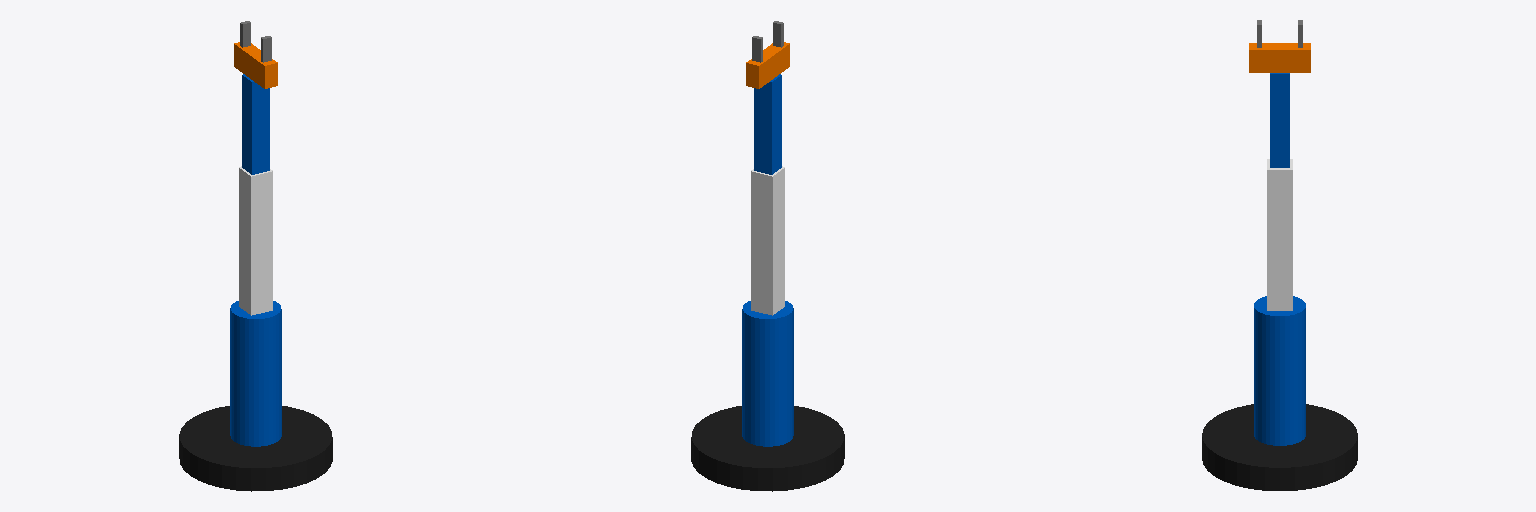
URDF robot description (robot_4axes_ik):
<?xml version="1.0"?>
<robot name="robot_4axes_ik">

  <!-- Matériaux pour l'esthétique du robot dans RViz -->
  <material name="dark_grey"><color rgba="0.15 0.15 0.15 1"/></material>
  <material name="blue"><color rgba="0.0 0.4 0.8 1"/></material>
  <material name="white"><color rgba="0.95 0.95 0.95 1"/></material>
  <material name="orange"><color rgba="1.0 0.5 0.0 1"/></material>
  <material name="grey"><color rgba="0.5 0.5 0.5 1"/></material>

  <!-- ================= BASE LINK ================= -->
  <link name="base_link">
    <visual>
      <origin xyz="0 0 0.025" rpy="0 0 0"/>
      <geometry>
        <cylinder length="0.05" radius="0.15"/>
      </geometry>
      <material name="dark_grey"/>
    </visual>
  </link>

  <!-- Joint 1 : Rotation de la base autour de l'axe vertical Z (Yaw) -->
  <joint name="joint1" type="revolute">
    <parent link="base_link"/>
    <child link="link1"/>
    <origin xyz="0 0 0.05" rpy="0 0 0"/>
    <axis xyz="0 0 1"/>
    <limit lower="-3.1416" upper="3.1416" effort="100.0" velocity="1.5"/>
  </joint>

  <!-- ================= LINK 1 ================= -->
  <link name="link1">
    <visual>
      <origin xyz="0 0 0.1375" rpy="0 0 0"/>
      <geometry>
        <cylinder length="0.275" radius="0.05"/>
      </geometry>
      <material name="blue"/>
    </visual>
  </link>

  <!-- Joint 2 : Épaule (Rotation autour de Y - Pitch) -->
  <joint name="joint2" type="revolute">
    <parent link="link1"/>
    <child link="link2"/>
    <origin xyz="0 0 0.275" rpy="0 0 0"/>
    <axis xyz="0 1 0"/>
    <limit lower="-1.5708" upper="1.5708" effort="100.0" velocity="1.5"/>
  </joint>

  <!-- ================= LINK 2 ================= -->
  <link name="link2">
    <visual>
      <origin xyz="0 0 0.15" rpy="0 0 0"/>
      <geometry>
        <box size="0.05 0.05 0.30"/>
      </geometry>
      <material name="white"/>
    </visual>
  </link>

  <!-- Joint 3 : Coude (Rotation autour de Y - Pitch) -->
  <joint name="joint3" type="revolute">
    <parent link="link2"/>
    <child link="link3"/>
    <origin xyz="0 0 0.30" rpy="0 0 0"/>
    <axis xyz="0 1 0"/>
    <limit lower="-2.0" upper="2.0" effort="100.0" velocity="1.5"/>
  </joint>

  <!-- ================= LINK 3 ================= -->
  <link name="link3">
    <visual>
      <origin xyz="0 0 0.10" rpy="0 0 0"/>
      <geometry>
        <box size="0.04 0.04 0.20"/>
      </geometry>
      <material name="blue"/>
    </visual>
  </link>

  <!-- Joint 4 : Poignet (Rotation autour de Y - Pitch) -->
  <joint name="joint4" type="revolute">
    <parent link="link3"/>
    <child link="gripper_base"/>
    <origin xyz="0 0 0.20" rpy="0 0 0"/>
    <axis xyz="0 1 0"/>
    <limit lower="-1.5708" upper="1.5708" effort="100.0" velocity="1.5"/>
  </joint>

  <!-- ================= GRIPPER BASE ================= -->
  <link name="gripper_base">
    <visual>
      <origin xyz="0 0 0.025" rpy="0 0 0"/>
      <geometry>
        <box size="0.03 0.12 0.05"/>
      </geometry>
      <material name="orange"/>
    </visual>
  </link>

  <!-- Joint Doigt 1 : Prismatique gauche (Axe Y) -->
  <joint name="gripper_finger1_joint" type="prismatic">
    <parent link="gripper_base"/>
    <child link="gripper_finger1"/>
    <origin xyz="0 0.04 0.05" rpy="0 0 0"/>
    <axis xyz="0 1 0"/>
    <limit lower="0.0" upper="0.04" effort="50.0" velocity="0.5"/>
  </joint>

  <link name="gripper_finger1">
    <visual>
      <origin xyz="0 0 0.025" rpy="0 0 0"/>
      <geometry>
        <box size="0.02 0.01 0.05"/>
      </geometry>
      <material name="grey"/>
    </visual>
  </link>

  <!-- Joint Doigt 2 : Prismatique droit (Axe -Y) -->
  <joint name="gripper_finger2_joint" type="prismatic">
    <parent link="gripper_base"/>
    <child link="gripper_finger2"/>
    <origin xyz="0 -0.04 0.05" rpy="0 0 0"/>
    <axis xyz="0 -1 0"/>
    <limit lower="0.0" upper="0.04" effort="50.0" velocity="0.5"/>
  </joint>

  <link name="gripper_finger2">
    <visual>
      <origin xyz="0 0 0.025" rpy="0 0 0"/>
      <geometry>
        <box size="0.02 0.01 0.05"/>
      </geometry>
      <material name="grey"/>
    </visual>
  </link>

</robot>

--- What the picture shows (computed from the rendered views, not written in the file) ---
3 views of the same robot in one strip: view 1: azimuth 30°, elevation 25°; view 2: azimuth 150°, elevation 25°; view 3: azimuth 270°, elevation 25° (orthographic).
Model robot_4axes_ik with 7 links and 6 joints (4 revolute, 2 prismatic), rooted at base_link, posed every joint at zero.
Links seen in each view (by area): view 1: base_link, link1, link2, link3, gripper_base; view 2: base_link, link1, link2, link3, gripper_base; view 3: base_link, link1, link2, link3, gripper_base.
Link boxes in pixels (x1,y1,x2,y2): base_link: (179,406,332,491); link1: (230,301,281,446); link2: (239,166,272,315); link3: (242,74,269,174); gripper_base: (234,42,277,88); base_link: (691,406,844,491); link1: (742,301,793,446); link2: (751,166,784,315); link3: (754,74,781,174); gripper_base: (746,42,789,88); base_link: (1202,404,1357,490); link1: (1254,296,1305,445); link2: (1267,159,1292,310); link3: (1270,73,1289,167); gripper_base: (1249,43,1310,72).
Size in the robot's own frame: 0.3 by 0.3 by 0.925 metres.
Geometry: primitives only (box / cylinder / sphere), no mesh files.
